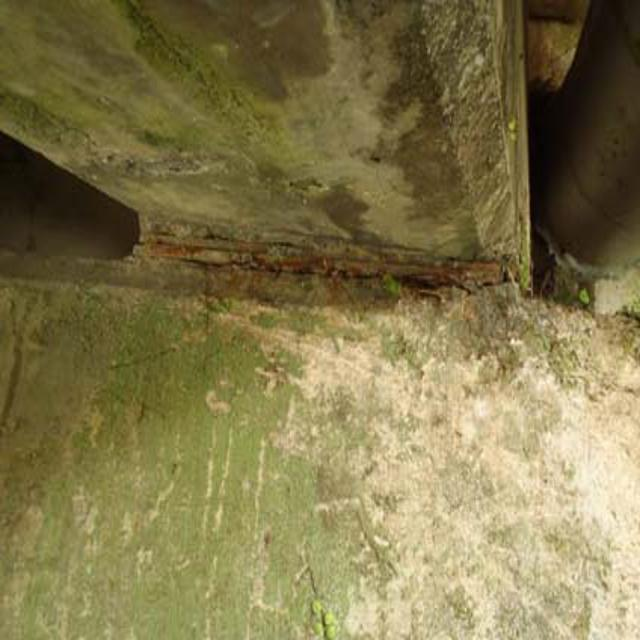corrosion: (126, 193, 538, 317)
